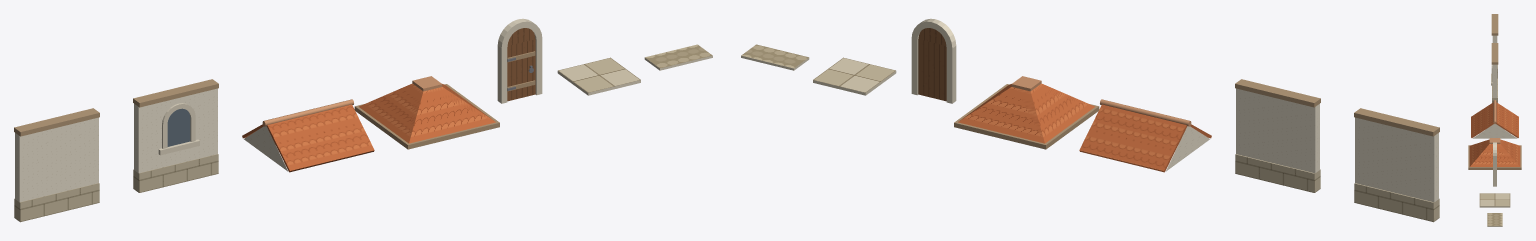
The model's file is kit-4-player-build-kit.glb.
3 views of the same model, side by side, from view 1: azimuth 30°, elevation 25°; view 2: azimuth 150°, elevation 25°; view 3: azimuth 270°, elevation 25° (orthographic). The views are drawn at different scales.
Parts seen in each view (by area): view 1: Build_Wall_ArchWindow, Build_Wall_Plain, Build_Roof_Hip, Build_Roof_Gabled, Build_Door_Wood, Build_Floor_Tile, Build_Path_Tile; view 2: Build_Wall_ArchWindow, Build_Wall_Plain, Build_Roof_Hip, Build_Roof_Gabled, Build_Door_Wood, Build_Floor_Tile, Build_Path_Tile; view 3: Build_Roof_Gabled, Build_Roof_Hip, Build_Floor_Tile, Build_Wall_ArchWindow, Build_Wall_Plain, Build_Path_Tile, Build_Door_Wood.
Boxes of the visible parts, left/top/right/bottom form: Build_Wall_ArchWindow: left=133, top=79, right=218, bottom=192; Build_Wall_Plain: left=14, top=108, right=99, bottom=222; Build_Roof_Hip: left=354, top=76, right=499, bottom=149; Build_Roof_Gabled: left=242, top=99, right=374, bottom=172; Build_Door_Wood: left=497, top=18, right=542, bottom=103; Build_Floor_Tile: left=557, top=57, right=640, bottom=95; Build_Path_Tile: left=644, top=44, right=712, bottom=70; Build_Wall_ArchWindow: left=1235, top=79, right=1320, bottom=192; Build_Wall_Plain: left=1354, top=108, right=1439, bottom=222; Build_Roof_Hip: left=954, top=76, right=1099, bottom=149; Build_Roof_Gabled: left=1079, top=99, right=1211, bottom=172; Build_Door_Wood: left=911, top=18, right=956, bottom=103; Build_Floor_Tile: left=813, top=57, right=896, bottom=95; Build_Path_Tile: left=741, top=44, right=809, bottom=70; Build_Roof_Gabled: left=1471, top=100, right=1518, bottom=138; Build_Roof_Hip: left=1468, top=138, right=1521, bottom=169; Build_Floor_Tile: left=1479, top=193, right=1510, bottom=207; Build_Wall_ArchWindow: left=1491, top=43, right=1498, bottom=102; Build_Wall_Plain: left=1491, top=14, right=1498, bottom=78; Build_Path_Tile: left=1487, top=213, right=1502, bottom=226; Build_Door_Wood: left=1493, top=142, right=1496, bottom=186.
Size of the model in its own units: 26 by 3.26 by 3.48.
11 materials, 6 textured.
